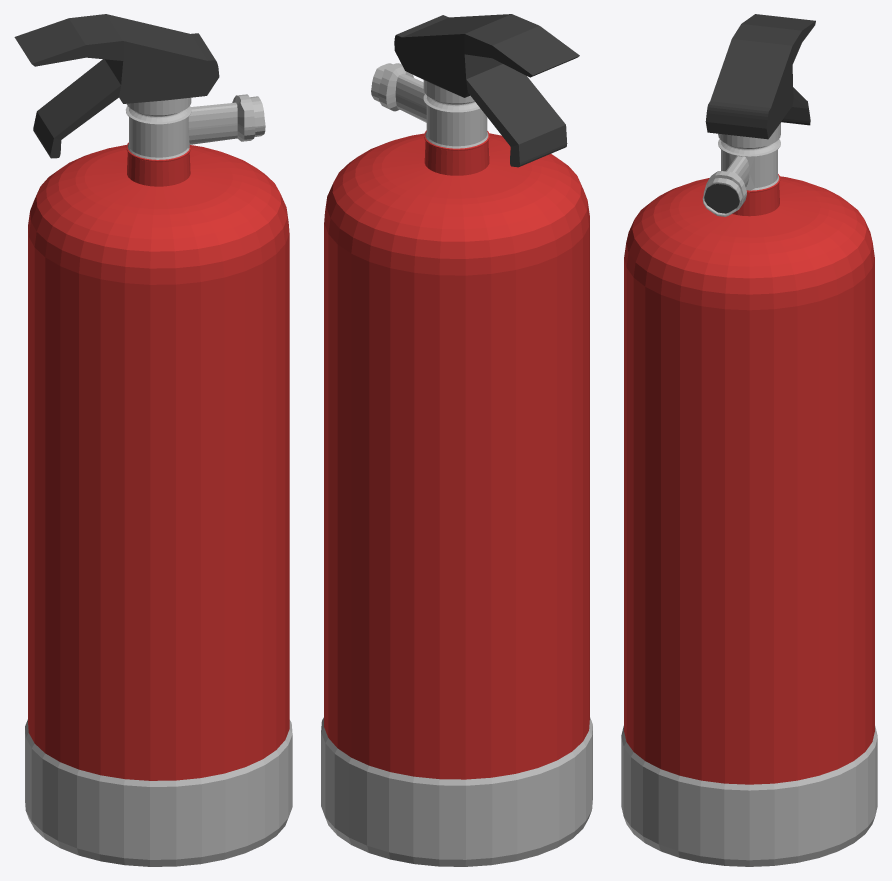
Rendered from fire_extinguisher.fbx.
3 views of the same model, side by side, from view 1: azimuth 30°, elevation 25°; view 2: azimuth 150°, elevation 25°; view 3: azimuth 270°, elevation 25° (orthographic). The views are drawn at different scales.
Visible parts, largest first — view 1: Cylinder; view 2: Cylinder; view 3: Cylinder.
Boxes of the visible parts, x1,y1,x2,y2 form: Cylinder: (14, 14, 292, 866); Cylinder: (321, 14, 592, 866); Cylinder: (621, 14, 877, 866).
Size of the model in its own units: 1.03 by 3.22 by 0.9923.
